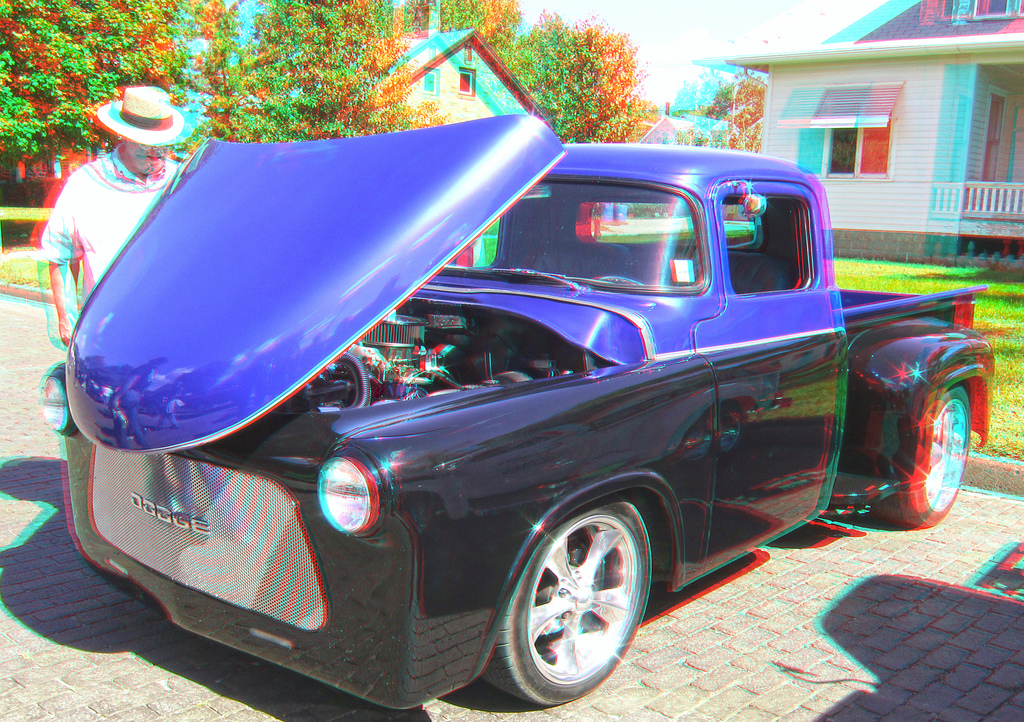Car: (32, 108, 993, 704)
